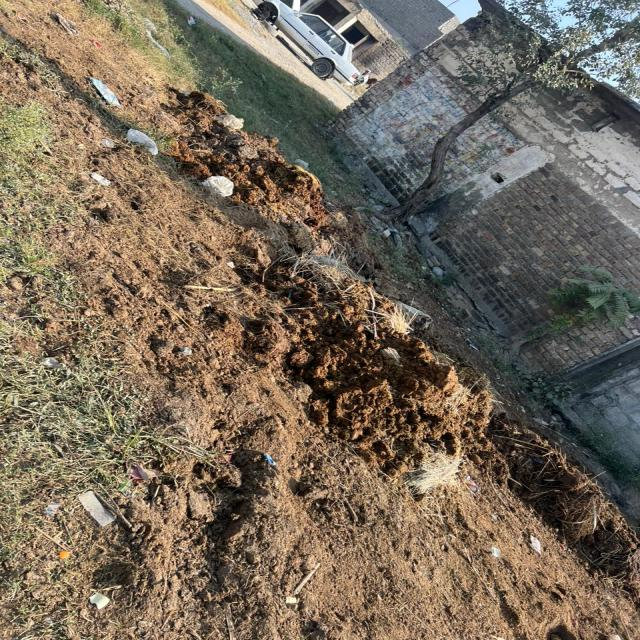garbage: (187, 248, 458, 542), (466, 409, 640, 592), (177, 92, 309, 224)
